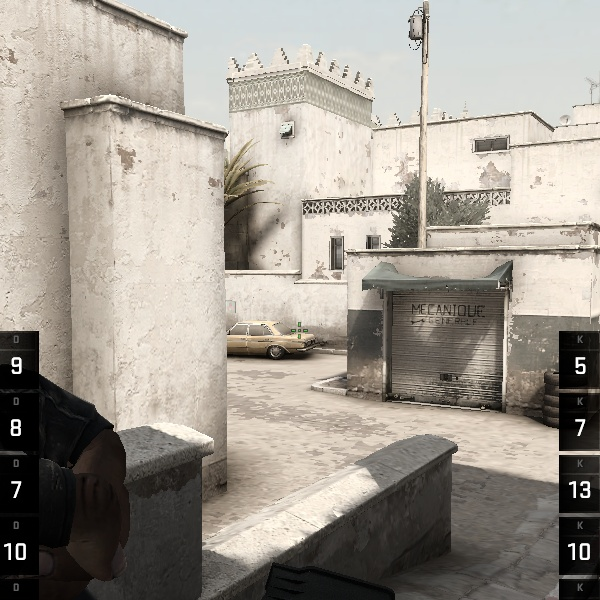ct_body: (8, 242, 176, 600)
